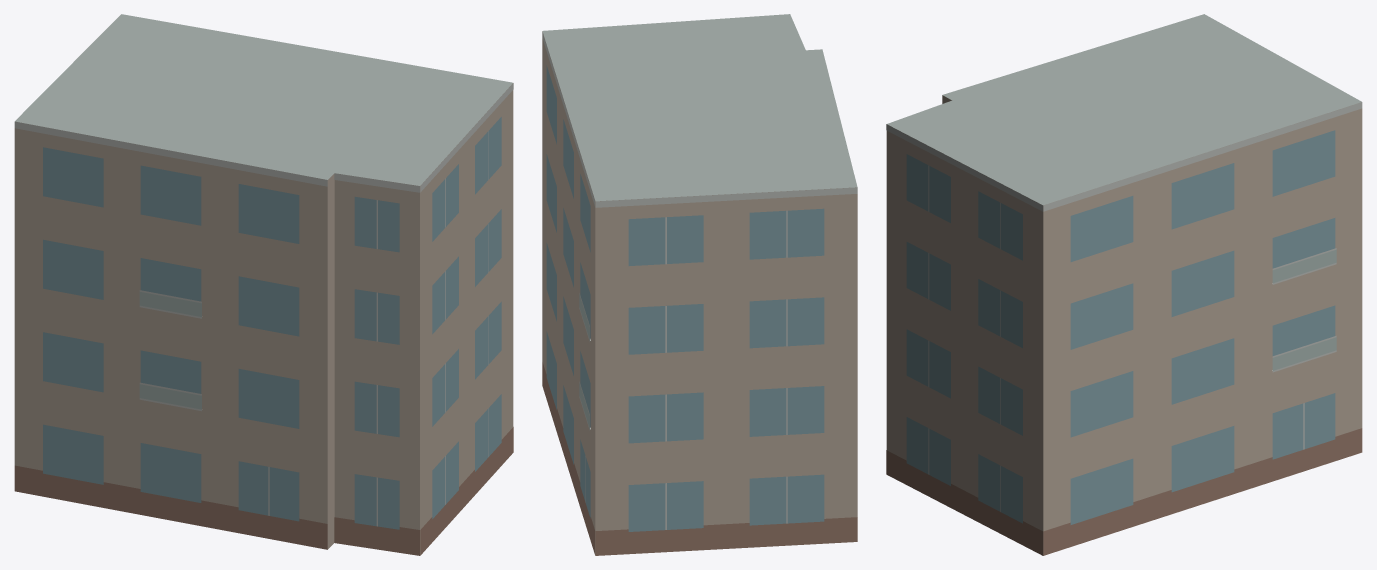
Rendered from survey-upis-33039728.glb.
The picture shows the model from 3 angles, left to right: view 1: azimuth 30°, elevation 25°; view 2: azimuth 150°, elevation 25°; view 3: azimuth 270°, elevation 25°; orthographic projection. The views are drawn at different scales.
Parts seen in each view (by area): view 1: survey-upis-33039728.tmp; view 2: survey-upis-33039728.tmp; view 3: survey-upis-33039728.tmp.
Boxes of the visible parts, box(x1,y1,x2,y2) form: survey-upis-33039728.tmp: box(14, 14, 513, 555); survey-upis-33039728.tmp: box(542, 14, 857, 555); survey-upis-33039728.tmp: box(886, 14, 1362, 555).
Bounding box in the file's own units: 15.58 × 13.3 × 16.37.
